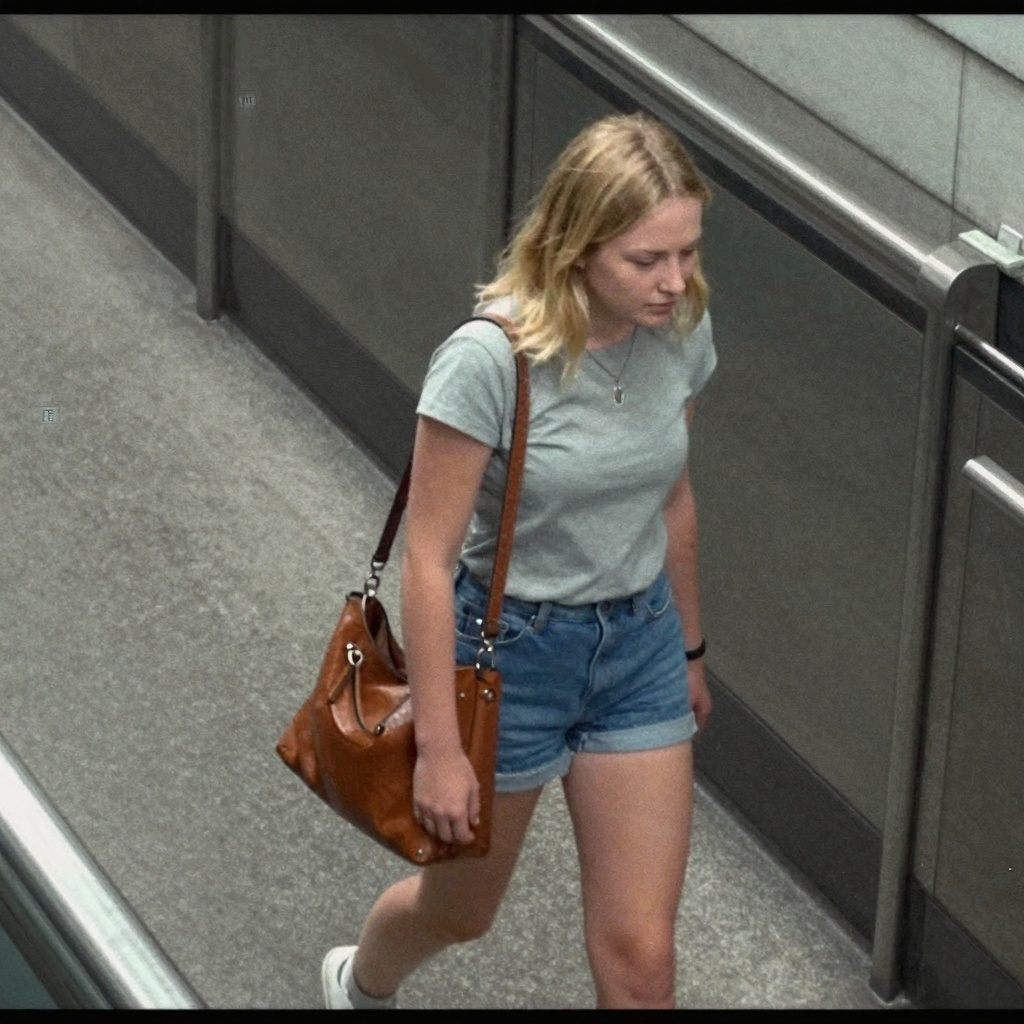Normal activity: (308, 107, 718, 1001)
